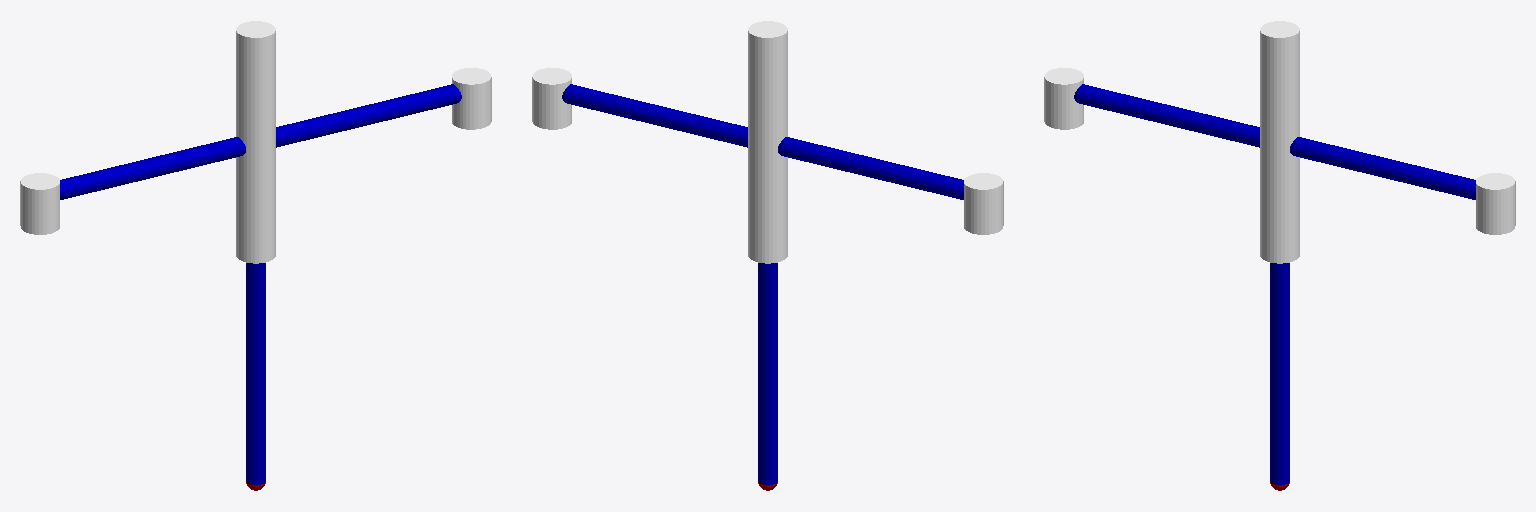
URDF robot description (1dhopper):
<?xml version="1.0"?>
<robot name="1dhopper">
   <material name="blue">
    <color rgba="0 0 0.8 1"/>
  </material>

  <material name="red">
   <color rgba="0.8 0 0 1"/>
 </material>

  <material name="white">
    <color rgba="1 1 1 0.5"/>
  </material>

 <link name="balance_beam">
    <visual>
     <material name="blue"/>
      <geometry>
        <cylinder length="1" radius="0.02"/>
      </geometry>
      <origin rpy="0 1.57075 0" xyz="0 0 0"/>
    </visual>
    <collision>
       <geometry>
         <cylinder length="1" radius="0.02"/>
       </geometry>
       <origin rpy="0 1.57075 0" xyz="0 0 0"/>
     </collision>
     <inertial>
     <mass value="2"/>
     <inertia ixx="0.4" ixy="0.0" ixz="0.0" iyy="0.4" iyz="0.0" izz="0.2"/>
     <origin rpy="0 1.57075 0" xyz="0 0 0"/>
   </inertial>
  </link>

  <link name="base_link">
    <visual>
      <geometry>
        <cylinder length="0.5" radius="0.04"/>
      </geometry>
      <material name="white"/>
    </visual>
    <collision>
       <geometry>
         <cylinder length="0.5" radius="0.04"/>
       </geometry>
     </collision>
     <inertial>
     <mass value="0.2"/>
     <inertia ixx="0.4" ixy="0.0" ixz="0.0" iyy="0.4" iyz="0.0" izz="0.2"/>
   </inertial>

  </link>

  <joint name="base_to_beam" type="continuous">
      <axis xyz="0 1 0"/>
      <limit effort="1000.0" lower="-1.57079632679" upper="1.57079632679" velocity="100"/>
       <dynamics damping="0.8" friction="0.5"/>
      <!-- <limit effort="1000.0" lower="-1.2" upper="1.2" velocity="10"/> -->
      <parent link="base_link"/>
      <child link="balance_beam"/>
      <origin xyz="0 0 0"/>

    </joint>

    <link name="leg">
        <visual>
          <geometry>
            <cylinder length="0.5" radius="0.02"/>
          </geometry>
          <material name="blue"/>
          <origin rpy="0 0 0" xyz="0 0 0"/>
        </visual>
        <collision>
           <geometry>
             <cylinder length="0.5" radius="0.02"/>
           </geometry>
           <origin rpy="0 0 0" xyz="0 0 0"/>
         </collision>
         <inertial>
         <mass value="0.45"/>
         <inertia ixx="0.4" ixy="0.0" ixz="0.0" iyy="0.4" iyz="0.0" izz="0.2"/>
         <origin rpy="0 0 0" xyz="0 0 -0.4"/>
       </inertial>
      </link>

    <joint name="foot_joint" type="prismatic">
        <axis xyz="0 0 1"/>
        <limit effort="1000.0" lower="0" upper="0.5" velocity="1000"/>
        <!-- <dynamics damping="0" friction="0"/> -->
        <parent link="base_link"/>
        <child link="leg"/>
        <origin xyz="0 0 -0.5"/>

      </joint>

      <link name="toe">
        <visual>
          <geometry>
            <sphere radius="0.02"/>
          </geometry>
          <material name="red"/>
        </visual>
        <collision>
          <geometry>
            <sphere radius="0.02"/>
          </geometry>
         </collision>
         <inertial>
         <mass value="0.01"/>
         <inertia ixx="1.0" ixy="0.0" ixz="0.0" iyy="1.0" iyz="0.0" izz="1.0"/>
       </inertial>

      </link>

      <joint name="leg_toe" type="fixed">
          <parent link="leg"/>
          <child link="toe"/>
          <origin xyz="0 0 -0.25"/>
          <!-- <dynamics damping="0.5" friction="1.0"/> -->
        </joint>

<link name="left_weight">
    <visual>
      <geometry>
        <cylinder length="0.1" radius="0.04"/>
      </geometry>
      <material name="white"/>
      <origin rpy="0 0 1.57075" xyz="0 0 0"/>
    </visual>
    <collision>
       <geometry>
         <cylinder length="0.1" radius="0.04"/>
       </geometry>
       <origin rpy="0 0 1.57075" xyz="0 0 0"/>
     </collision>
     <inertial>
     <mass value="1"/>
     <origin rpy="0 0 1.57075" xyz="0 0 0"/>
     <inertia ixx="0.4" ixy="0.0" ixz="0.0" iyy="0.4" iyz="0.0" izz="0.2"/>
   </inertial>
  </link>

<link name="right_weight">
    <visual>
      <geometry>
        <cylinder length="0.1" radius="0.04"/>
      </geometry>
      <material name="white"/>
      <origin rpy="0 0 1.57075" xyz="0 0 0"/>
    </visual>
    <collision>
       <geometry>
         <cylinder length="0.1" radius="0.04"/>
       </geometry>
       <origin rpy="0 0 1.57075" xyz="0 0 0"/>
     </collision>
     <inertial>
     <mass value="1"/>
     <origin rpy="0 0 1.57075" xyz="0 0 0"/>
     <inertia ixx="0.4" ixy="0.0" ixz="0.0" iyy="0.4" iyz="0.0" izz="0.2"/>
   </inertial>
  </link>

<joint name="leftWeight_beam" type="fixed">
          <parent link="balance_beam"/>
          <child link="left_weight"/>
          <origin xyz="0.5 0 -0.02"/>
        </joint>

<joint name="rightWeight_beam" type="fixed">
          <parent link="balance_beam"/>
          <child link="right_weight"/>
          <origin xyz="-0.5 0 -0.02"/>
        </joint>

</robot>

--- Render facts (derived) ---
3 views of the same robot in one strip: view 1: azimuth 30°, elevation 25°; view 2: azimuth 150°, elevation 25°; view 3: azimuth 330°, elevation 25° (orthographic).
Robot: 1dhopper — 6 links, 5 joints (1 continuous, 1 prismatic, 3 fixed); root link base_link; default pose: all joints at 0.
Visible links, largest first — view 1: base_link, balance_beam, leg, right_weight, left_weight; view 2: base_link, balance_beam, leg, right_weight, left_weight; view 3: base_link, balance_beam, leg, left_weight, right_weight.
Link boxes in pixels (x1,y1,x2,y2): base_link: (236,21,275,263); balance_beam: (60,84,461,199); leg: (246,263,265,484); right_weight: (20,173,59,234); left_weight: (452,68,491,129); base_link: (748,21,787,263); balance_beam: (562,84,963,199); leg: (758,263,777,484); right_weight: (964,173,1003,234); left_weight: (532,68,571,129); base_link: (1260,21,1299,263); balance_beam: (1074,84,1475,199); leg: (1270,263,1289,484); left_weight: (1476,173,1515,234); right_weight: (1044,68,1083,129).
Size in the robot's own frame: 1.08 by 0.08 by 1.02 metres.
Geometry: primitives only (box / cylinder / sphere), no mesh files.